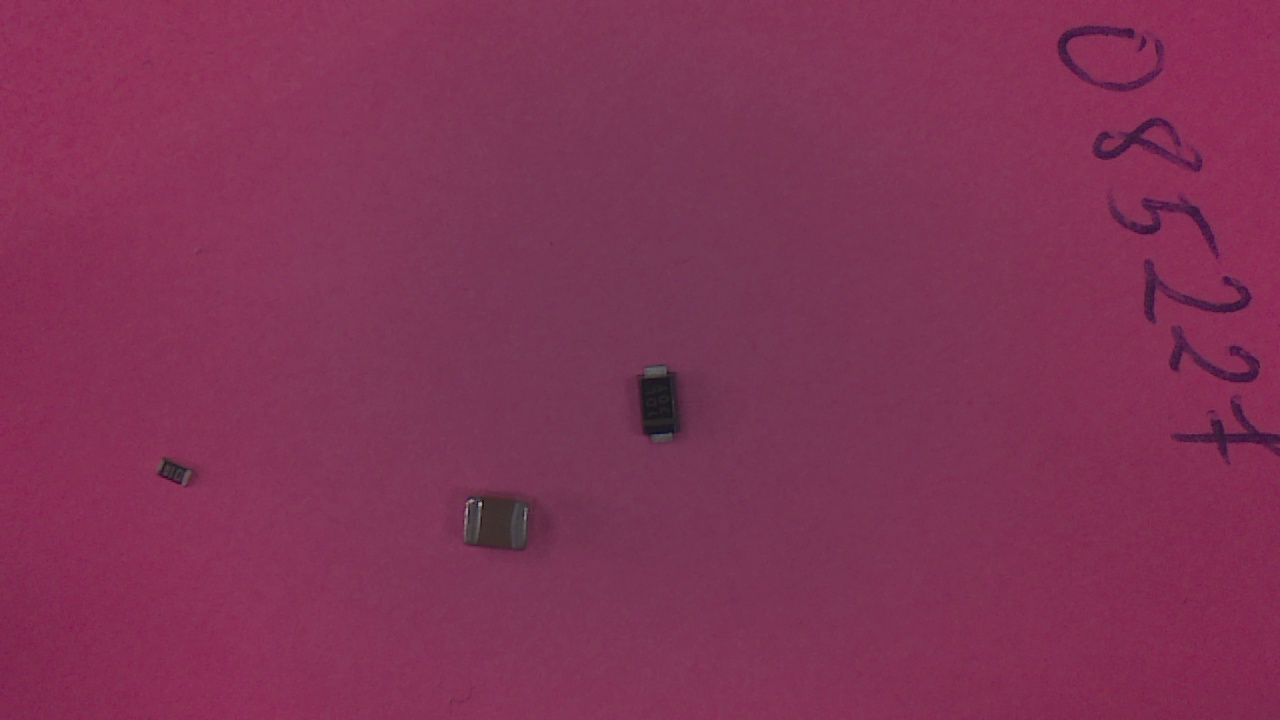Condensator: (460, 492, 529, 564)
Diode: (630, 366, 683, 452)
Resistor: (155, 463, 192, 495)
